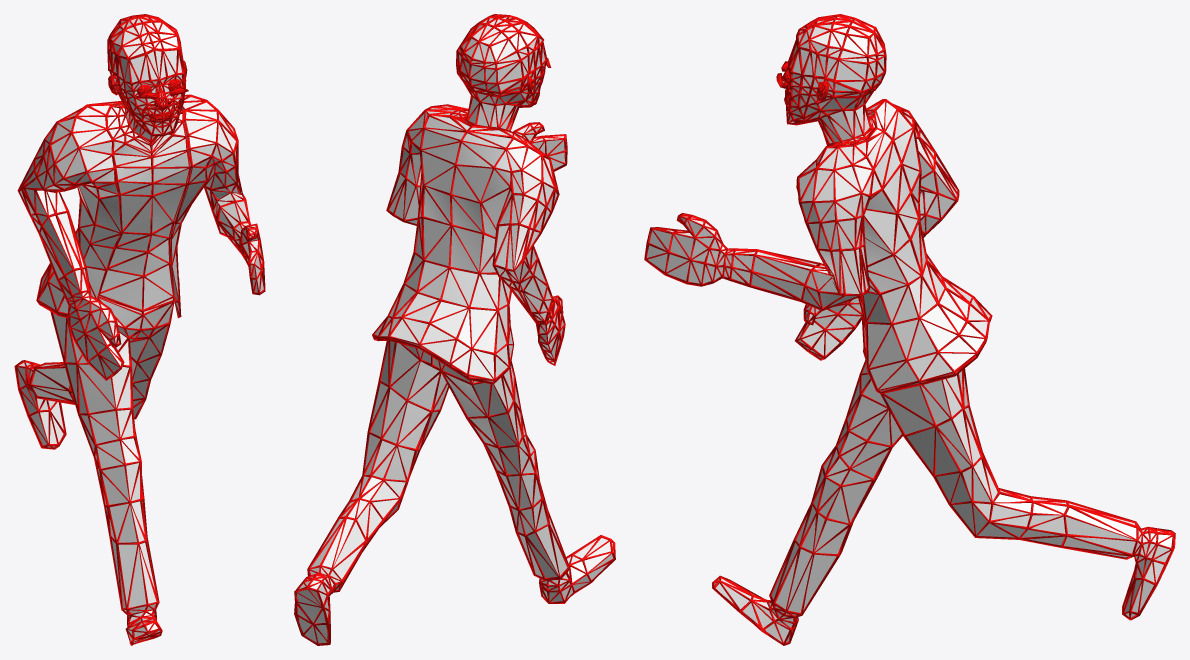
Rendered from elegantRun_000008.obj.
3 views of the same model, side by side, from view 1: azimuth 30°, elevation 25°; view 2: azimuth 150°, elevation 25°; view 3: azimuth 270°, elevation 25° (orthographic). The views are drawn at different scales.
Parts seen in each view (by area): view 1: BaseHuman_Cylinder.002; view 2: BaseHuman_Cylinder.002; view 3: BaseHuman_Cylinder.002.
Boxes of the visible parts, <box> form: BaseHuman_Cylinder.002: <box>14,14,265,645</box>; BaseHuman_Cylinder.002: <box>294,14,615,645</box>; BaseHuman_Cylinder.002: <box>644,14,1175,645</box>.
Size of the model in its own units: 1.45 by 4.66 by 3.52.
